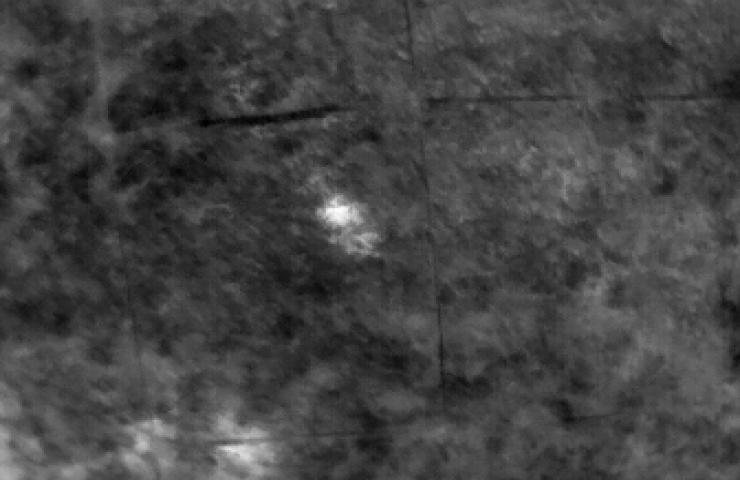landmines: (316, 192, 367, 229)
